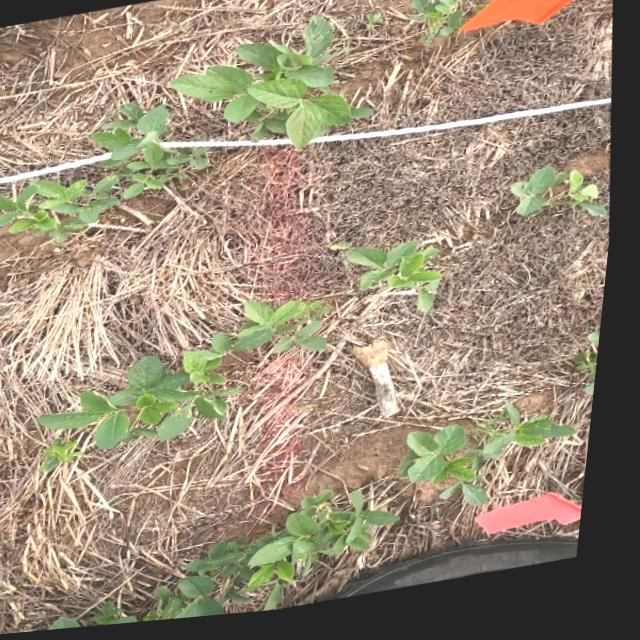soy_plant: (47, 304, 335, 451), (109, 495, 409, 629), (0, 104, 210, 242), (173, 20, 374, 151), (409, 413, 585, 513), (354, 248, 448, 319), (517, 176, 609, 225), (413, 0, 472, 51), (48, 439, 93, 472), (586, 360, 607, 405)
